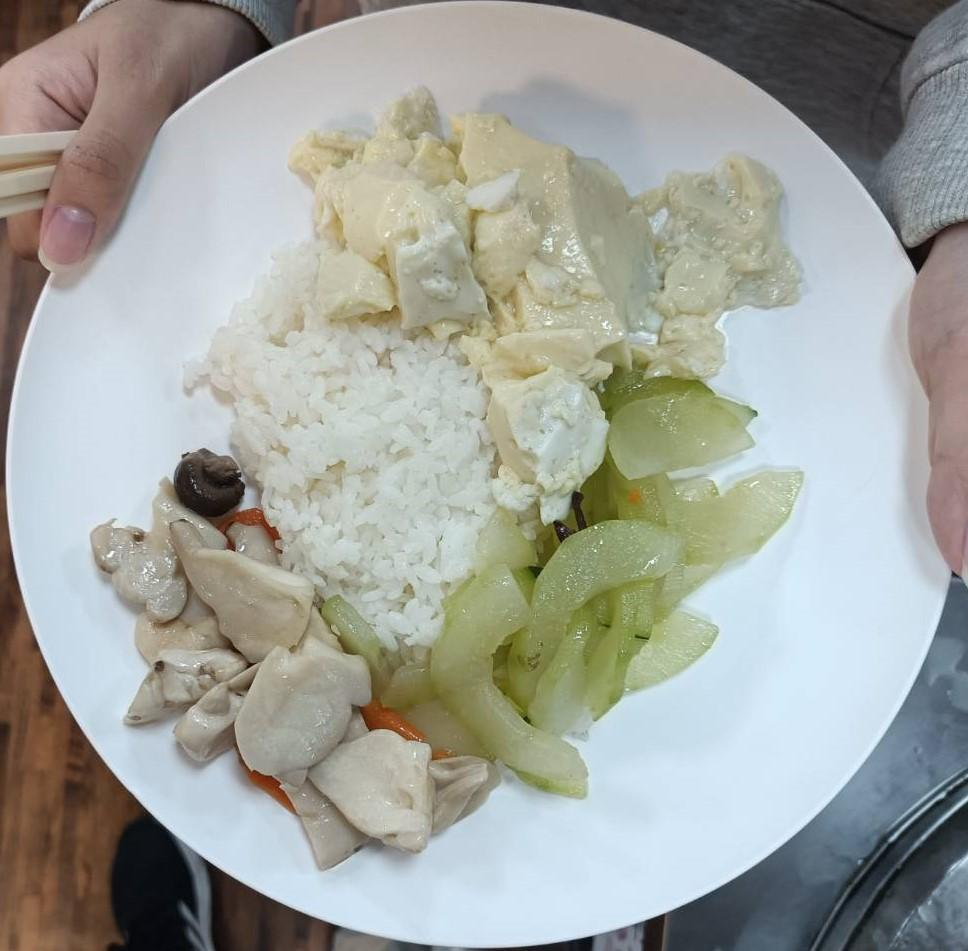big fried chicken leg: (8, 14, 968, 951)
big herbal chicken leg: (186, 268, 498, 652)
braised fish fillet: (298, 89, 800, 512), (410, 378, 800, 791), (80, 454, 435, 871)
